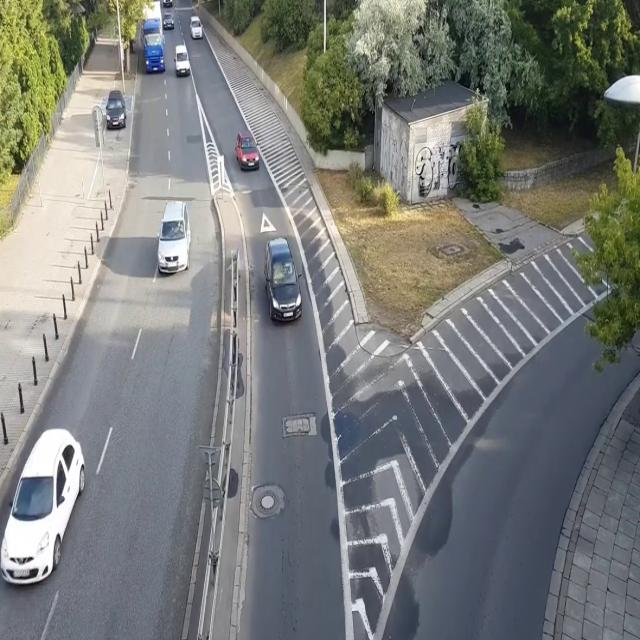car: (0, 425, 85, 589), (262, 236, 304, 325), (157, 199, 191, 275), (234, 129, 260, 174), (105, 86, 127, 130), (188, 14, 203, 38), (162, 10, 175, 32), (162, 0, 174, 8)
truck: (140, 2, 166, 73)
van: (174, 43, 191, 78)
